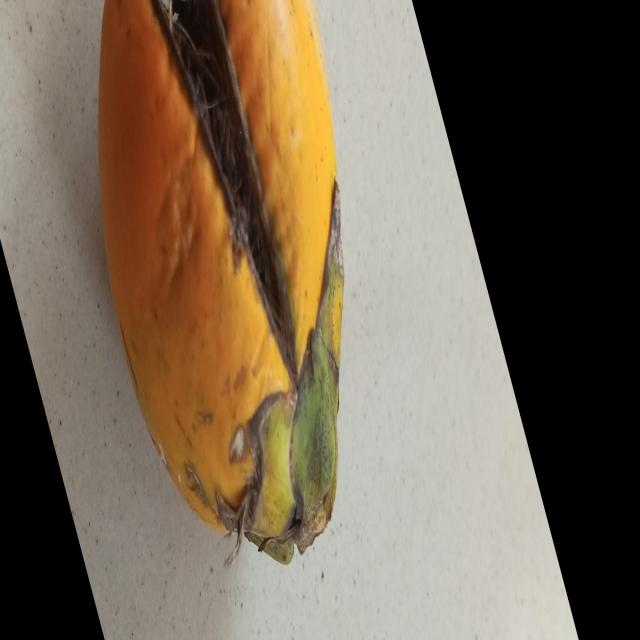damaged: (98, 0, 343, 566)
